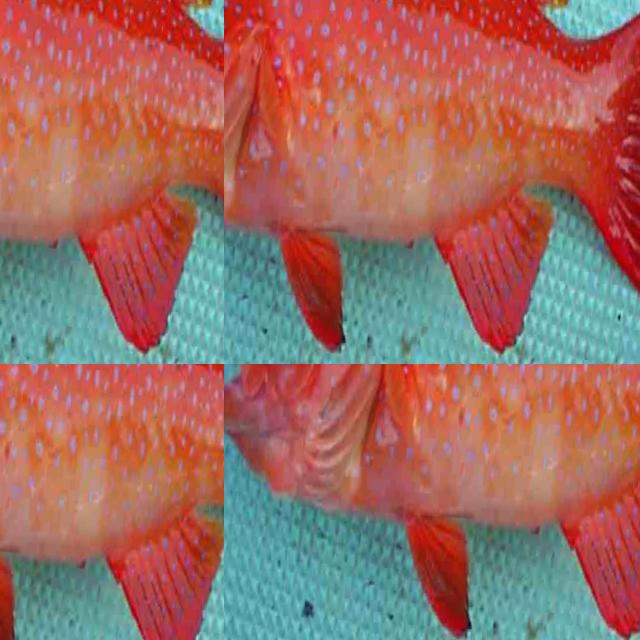Plectropomus-leopardus: (224, 364, 640, 640), (224, 0, 386, 261), (0, 0, 96, 76), (0, 364, 66, 437)
